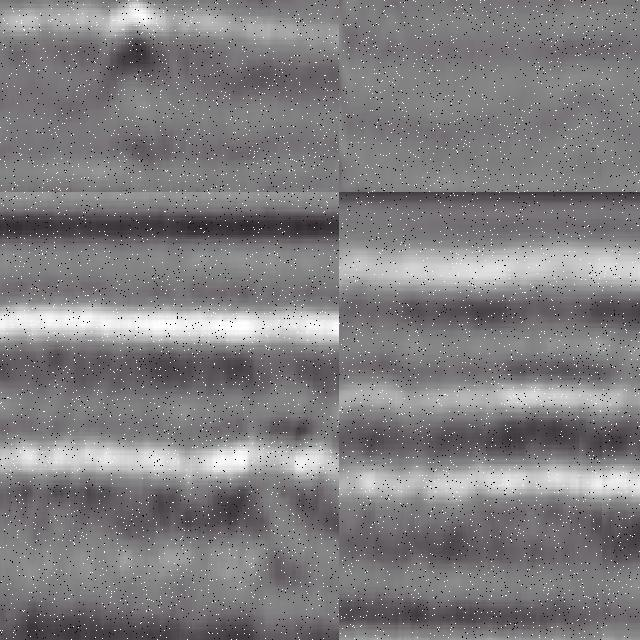crack: (340, 1, 355, 193)
